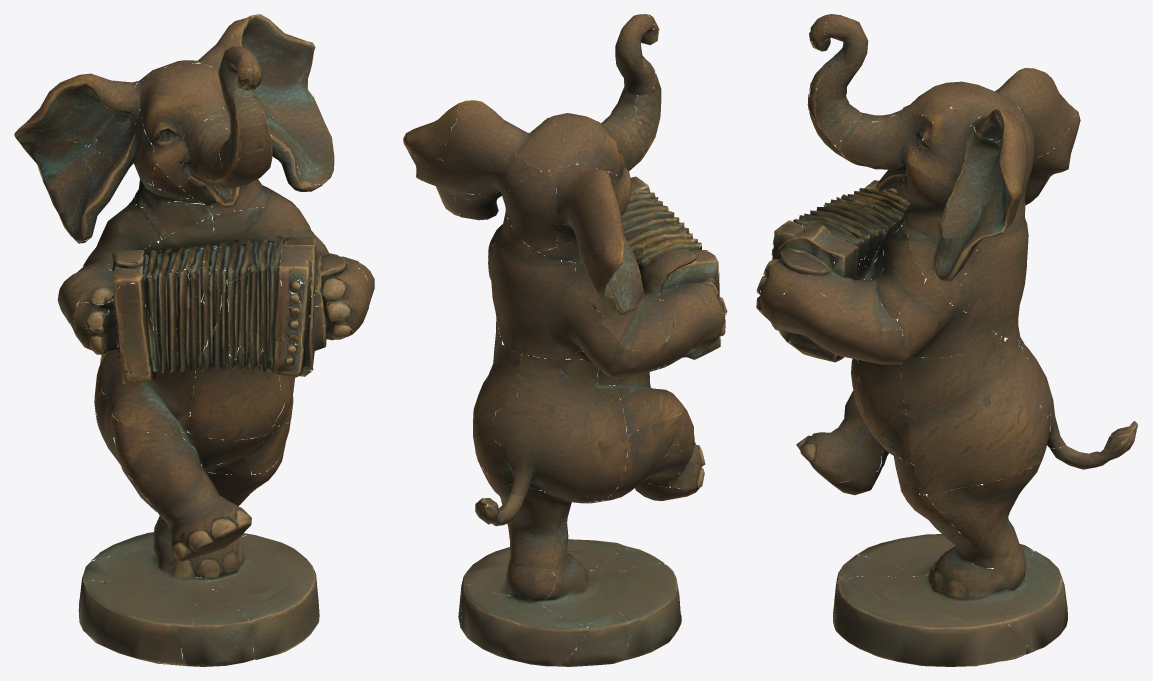
Rendered from h_clock_elephant.glb.
3 views of the same model, side by side, from view 1: azimuth 30°, elevation 25°; view 2: azimuth 150°, elevation 25°; view 3: azimuth 270°, elevation 25° (orthographic). The views are drawn at different scales.
Visible parts, largest first — view 1: tripo_node_b11f22a7-a77f-4399-ba4c-3d103d261c03; view 2: tripo_node_b11f22a7-a77f-4399-ba4c-3d103d261c03; view 3: tripo_node_b11f22a7-a77f-4399-ba4c-3d103d261c03.
Part boxes in pixels (x1=…): tripo_node_b11f22a7-a77f-4399-ba4c-3d103d261c03: x1=14, y1=14, x2=374, y2=666; tripo_node_b11f22a7-a77f-4399-ba4c-3d103d261c03: x1=403, y1=14, x2=727, y2=666; tripo_node_b11f22a7-a77f-4399-ba4c-3d103d261c03: x1=756, y1=14, x2=1137, y2=666.
Bounding box in the file's own units: 0.5001 × 1 × 0.5815.
Materials: 1 (1 with a texture image).
